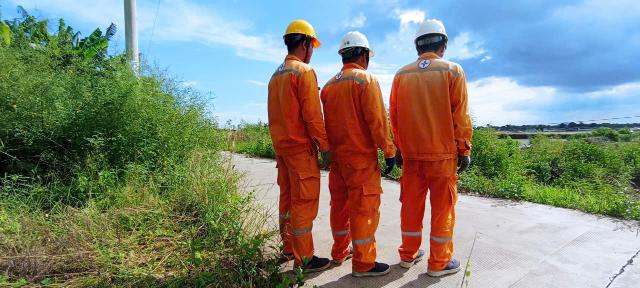gloves: (312, 146, 336, 173), (449, 150, 473, 177), (391, 145, 413, 171), (384, 153, 396, 178)
helmet: (400, 9, 455, 50), (332, 26, 384, 65), (273, 15, 326, 48)
shoes: (419, 255, 470, 280), (344, 255, 395, 279), (290, 252, 333, 273), (330, 241, 360, 266), (402, 240, 426, 271), (271, 243, 300, 262)
